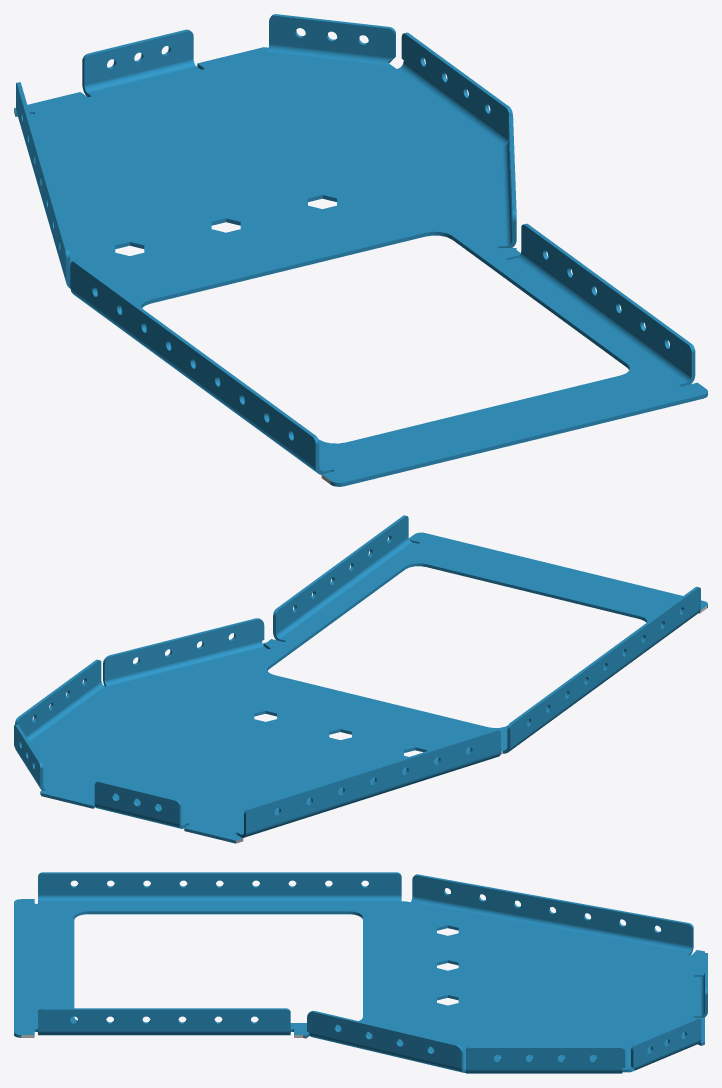
3 renders of one model, top to bottom at view 1: azimuth 30°, elevation 25°; view 2: azimuth 150°, elevation 25°; view 3: azimuth 270°, elevation 25°, orthographic. The views are drawn at different scales.
Visible parts, largest first — view 1: mesh6051, mesh6041, mesh6023, mesh5950, mesh5972, mesh6018, mesh6011, mesh6002, mesh6032, mesh5922, mesh6054, mesh5989 (+6 smaller); view 2: mesh6051, mesh6032, mesh6041, mesh5895, mesh6023, mesh5973, mesh6018, mesh6011, mesh5978, mesh5907, mesh6074, mesh5989 (+4 smaller); view 3: mesh6051, mesh6040, mesh6031, mesh6024, mesh5903, mesh6017, mesh5990, mesh5979, mesh6010, mesh5951, mesh6053, mesh5921 (+4 smaller).
Boxes of the visible parts, x1,y1,x2,y2 form: mesh6051: (14, 47, 707, 482); mesh6041: (70, 261, 315, 467); mesh6023: (521, 224, 691, 375); mesh5950: (269, 16, 394, 57); mesh5972: (84, 31, 193, 84); mesh6018: (401, 33, 508, 137); mesh6011: (516, 251, 691, 382); mesh6002: (344, 395, 703, 486); mesh6032: (16, 83, 65, 280); mesh5922: (398, 62, 508, 145); mesh6054: (150, 233, 425, 303); mesh5989: (70, 288, 317, 473); mesh6051: (30, 532, 707, 840); mesh6032: (246, 730, 500, 832); mesh6041: (510, 587, 700, 747); mesh5895: (104, 619, 264, 679); mesh6023: (276, 516, 408, 633); mesh5973: (94, 782, 179, 823); mesh6018: (18, 660, 101, 735); mesh6011: (276, 537, 412, 639); mesh5978: (244, 752, 500, 837); mesh5907: (104, 640, 264, 686); mesh6074: (426, 564, 639, 618); mesh5989: (509, 608, 700, 751); mesh6051: (14, 899, 704, 1069); mesh6040: (38, 873, 401, 894); mesh6031: (412, 875, 692, 946); mesh6024: (38, 1009, 290, 1030); mesh5903: (307, 1012, 461, 1067); mesh6017: (466, 1048, 625, 1068); mesh5990: (38, 894, 401, 901); mesh5979: (411, 896, 692, 952); mesh6010: (38, 1030, 290, 1035); mesh5951: (633, 1019, 701, 1067); mesh6053: (88, 911, 348, 914); mesh5921: (466, 1069, 622, 1073).
Size of the model in its own units: 0.1727 by 0.013 by 0.2883.
